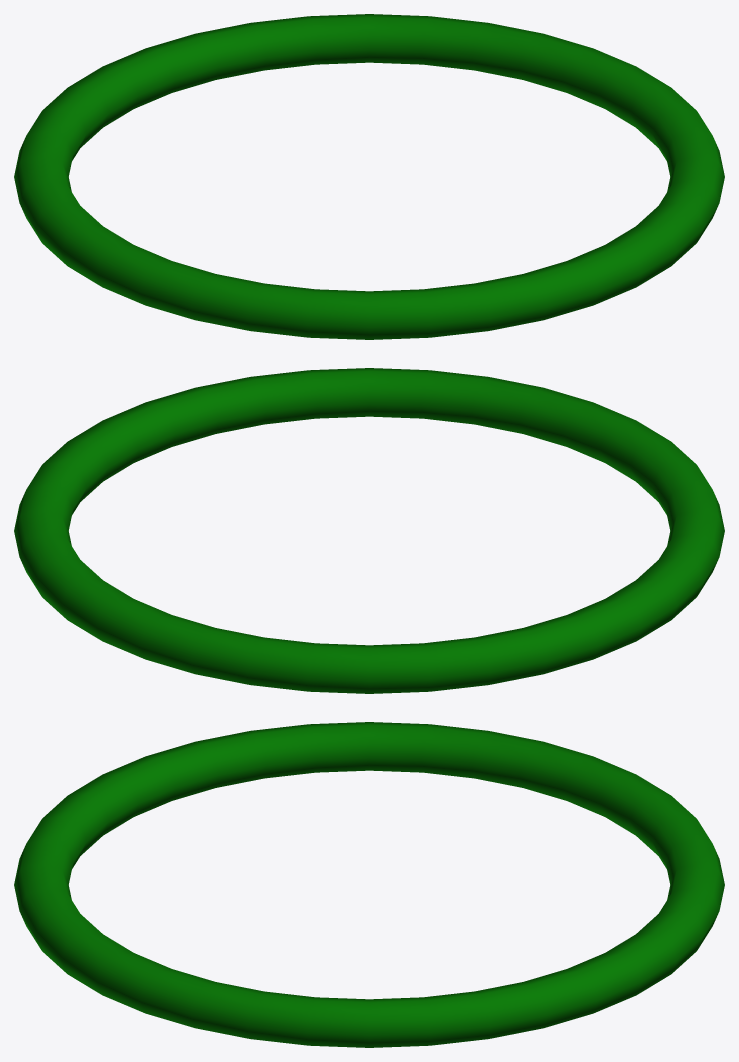
Rendered from hoope_green.FBX.
3 renders of one model, top to bottom at view 1: azimuth 30°, elevation 25°; view 2: azimuth 150°, elevation 25°; view 3: azimuth 270°, elevation 25°, orthographic.
Visible parts, largest first — view 1: hoop_green; view 2: hoop_green; view 3: hoop_green.
Boxes of the visible parts, x1,y1,x2,y2 form: hoop_green: (14,14,724,339); hoop_green: (14,368,724,693); hoop_green: (14,722,724,1047).
Bounding box in the file's own units: 24.79 × 1.61 × 24.8.
